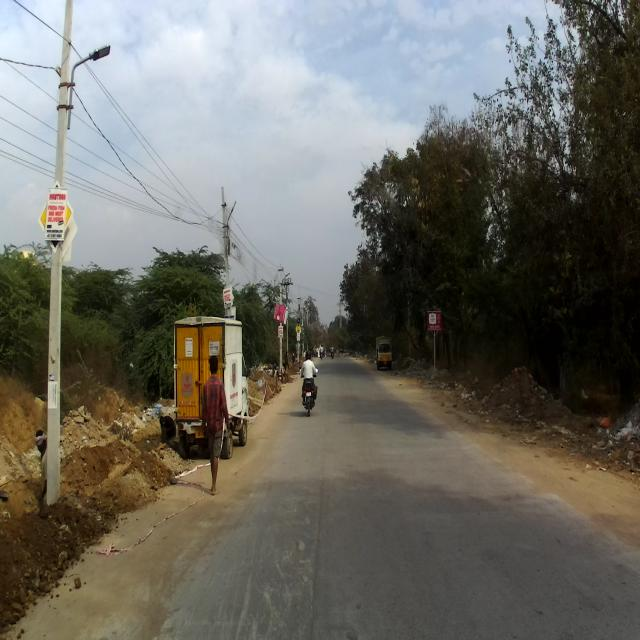person ahead at: (199, 344, 228, 496)
truck ahead at: (171, 301, 253, 461)
